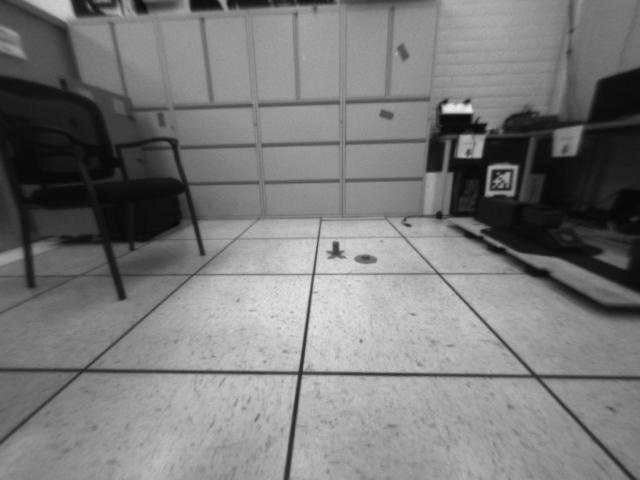X: (324, 240, 347, 260)
